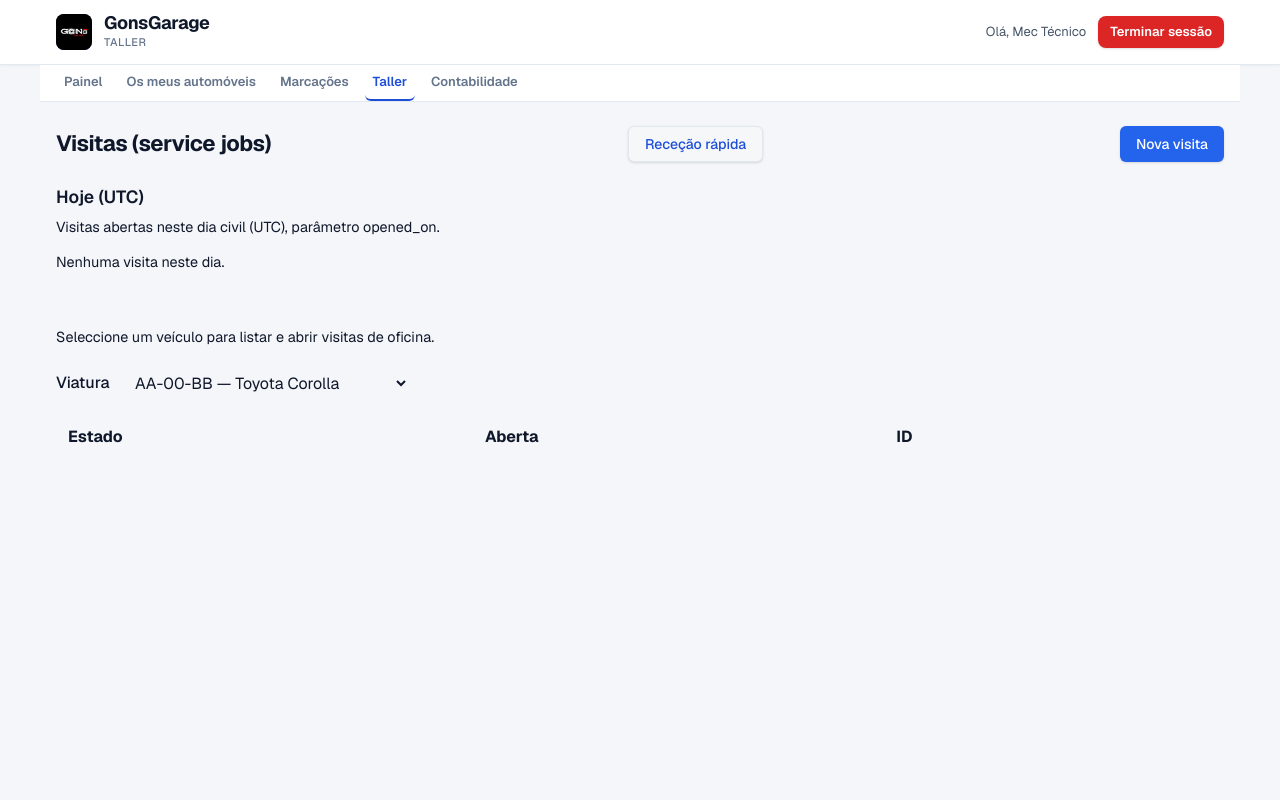
Test: WorkshopListPage › opens Nova visita dialog with selected vehicle summary
Click the button "Nova visita".
click(1172, 144)  # box [1120,126,1224,162]
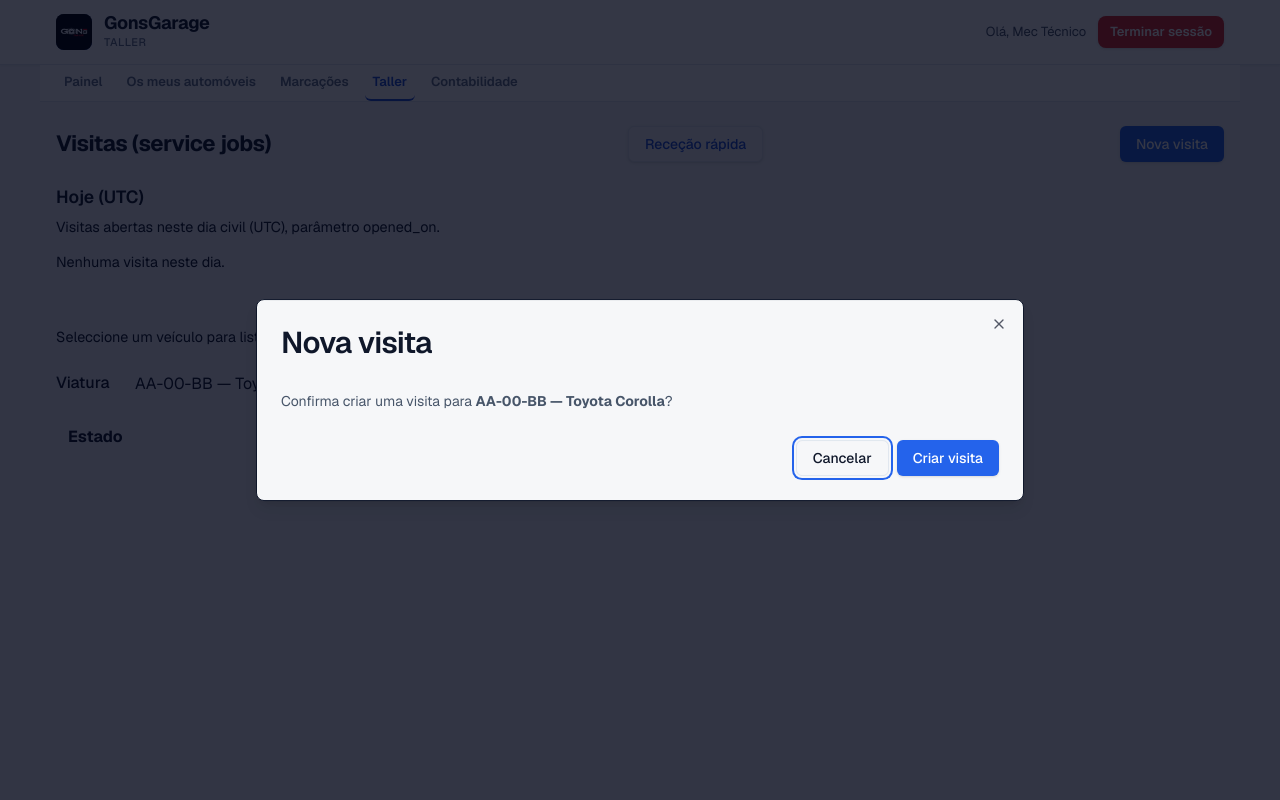
Expected: the text "Confirma criar uma visita para AA-00-BB — Toyota Corolla?" is shown, [281,392,673,410]
Expected: the text "AA-00-BB — Toyota Corolla" is shown, [476,392,665,410]
Expected: the button "Cancelar" is shown, [796,440,889,476]
